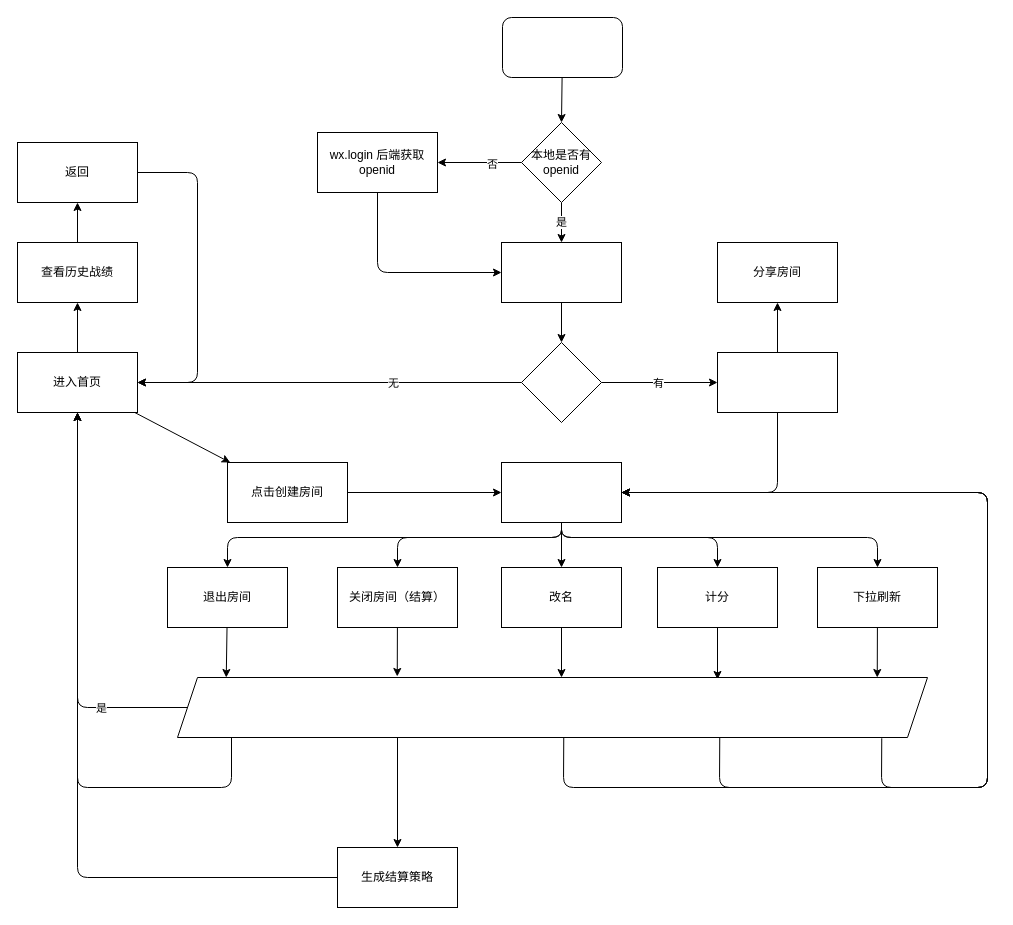
The diagram is 1013 pixels wide and 925 high, and some of its shapes have lost their labels. Here are the shapes that lost their labels. From the top down, the centre of each, then its label:
At pixel 562 47: "进入小程序".
At pixel 561 272: "后端获取房间信息".
At pixel 561 382: "是否有房间".
At pixel 777 382: "进入房间".
At pixel 561 492: "获取用户列表、计分列表".
At pixel 552 707: "房间是否关闭".
